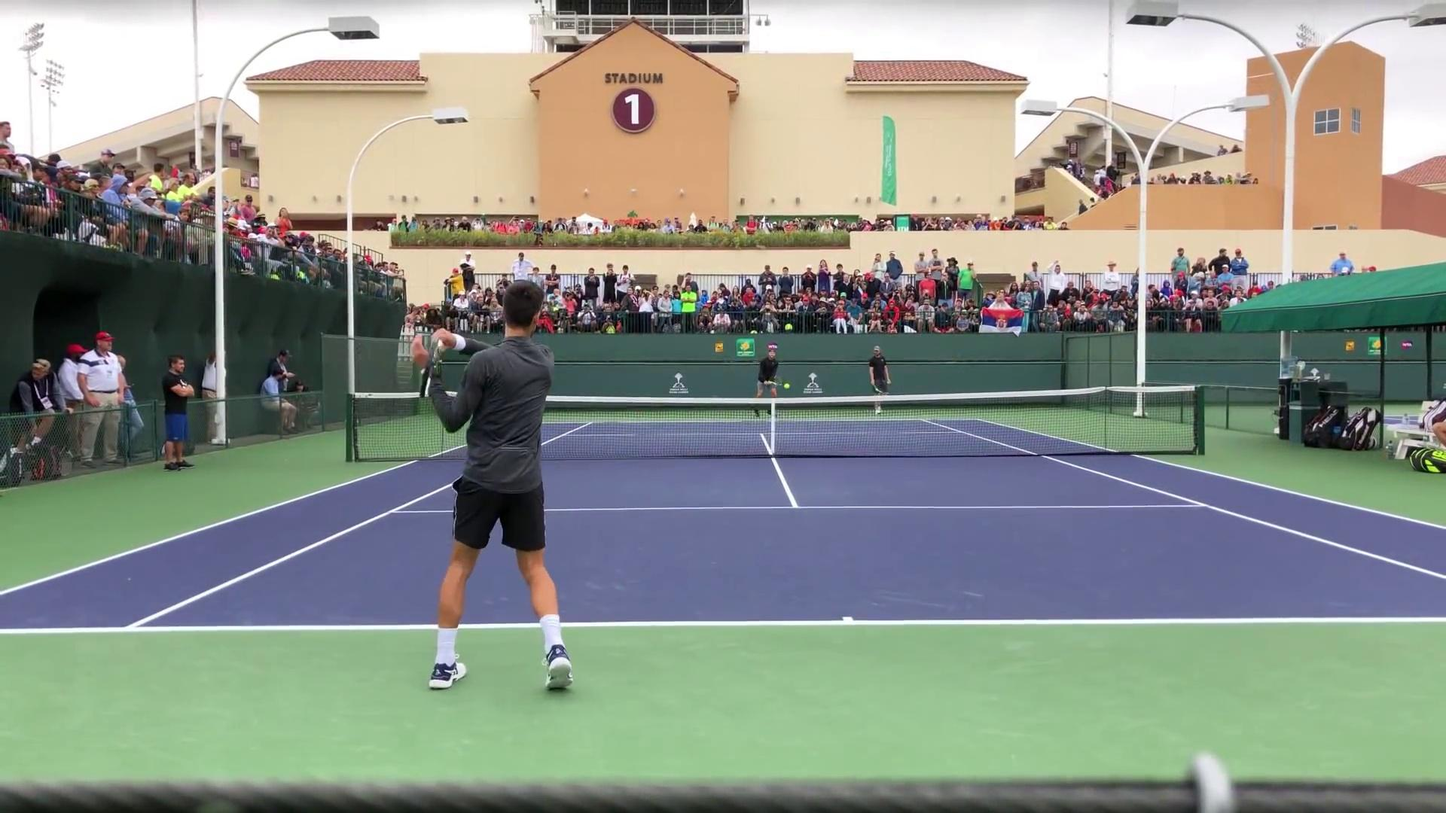ball: (786, 384, 791, 389)
